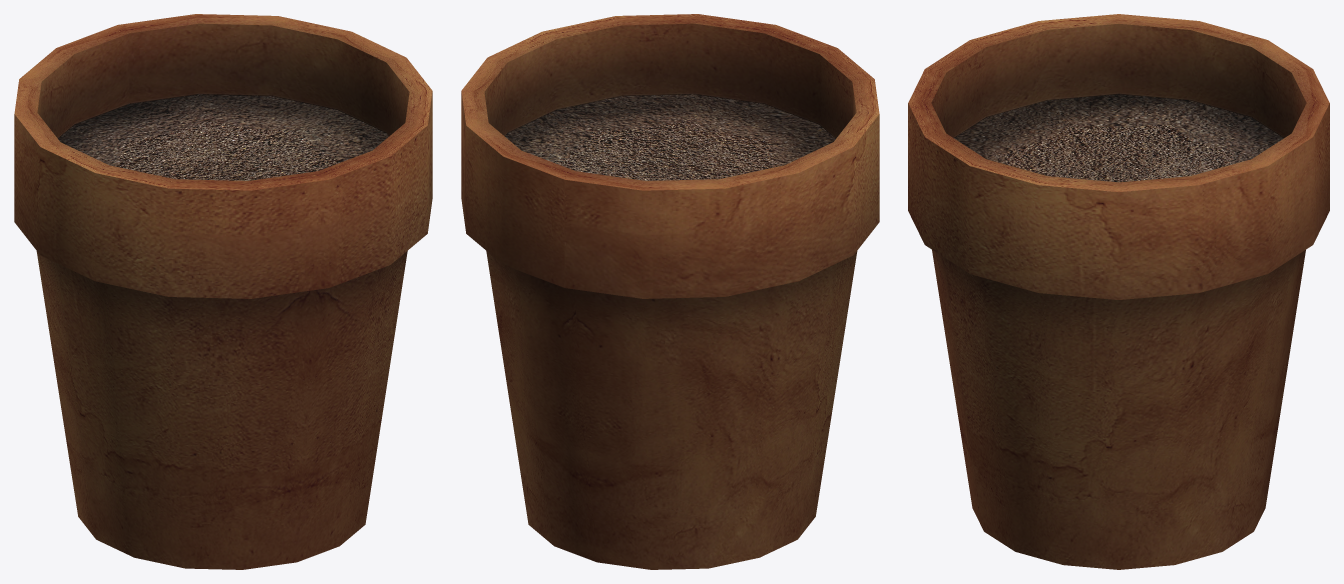
3 renders of one model, left to right at view 1: azimuth 30°, elevation 25°; view 2: azimuth 150°, elevation 25°; view 3: azimuth 270°, elevation 25°, orthographic.
Parts seen in each view (by area): view 1: _Platpot_2_LOD0; view 2: _Platpot_2_LOD0; view 3: _Platpot_2_LOD0.
Boxes of the visible parts, x1,y1,x2,y2 form: _Platpot_2_LOD0: (14,14,432,569); _Platpot_2_LOD0: (461,14,879,569); _Platpot_2_LOD0: (908,14,1329,569).
Bounding box in the file's own units: 156 × 166 × 156.
